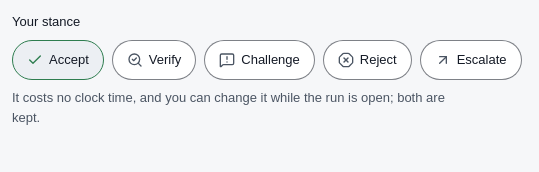
Test case: StanceControl (UI-023, FR-080, FR-085) › puts the previous stance back when the server refuses, and says so
This screenshot has width=539, height=172.
Click the radio button labelled "Reject" at (367, 60), box top-left (323, 40), bottom-right (412, 80)
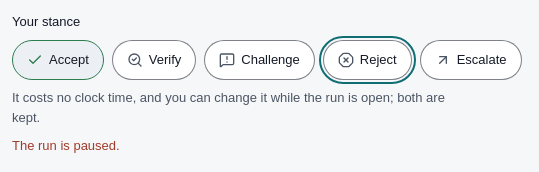
Expected: the text "The run is paused." is shown, top-left (12, 138), bottom-right (120, 153)
